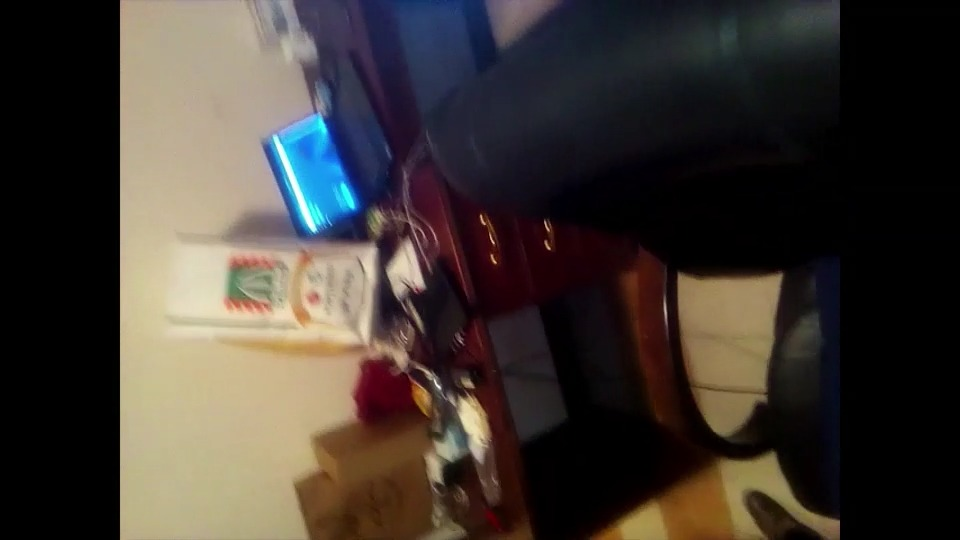maize_flour_green_label: (169, 231, 380, 346)
